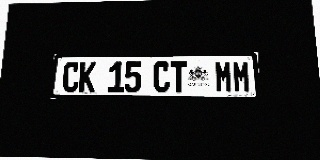1: (108, 62, 125, 93)
5: (124, 61, 141, 93)
C: (62, 62, 80, 93), (153, 61, 170, 93)
K: (78, 62, 96, 93)
M: (232, 61, 251, 93), (215, 61, 233, 93)
T: (170, 61, 187, 93)
